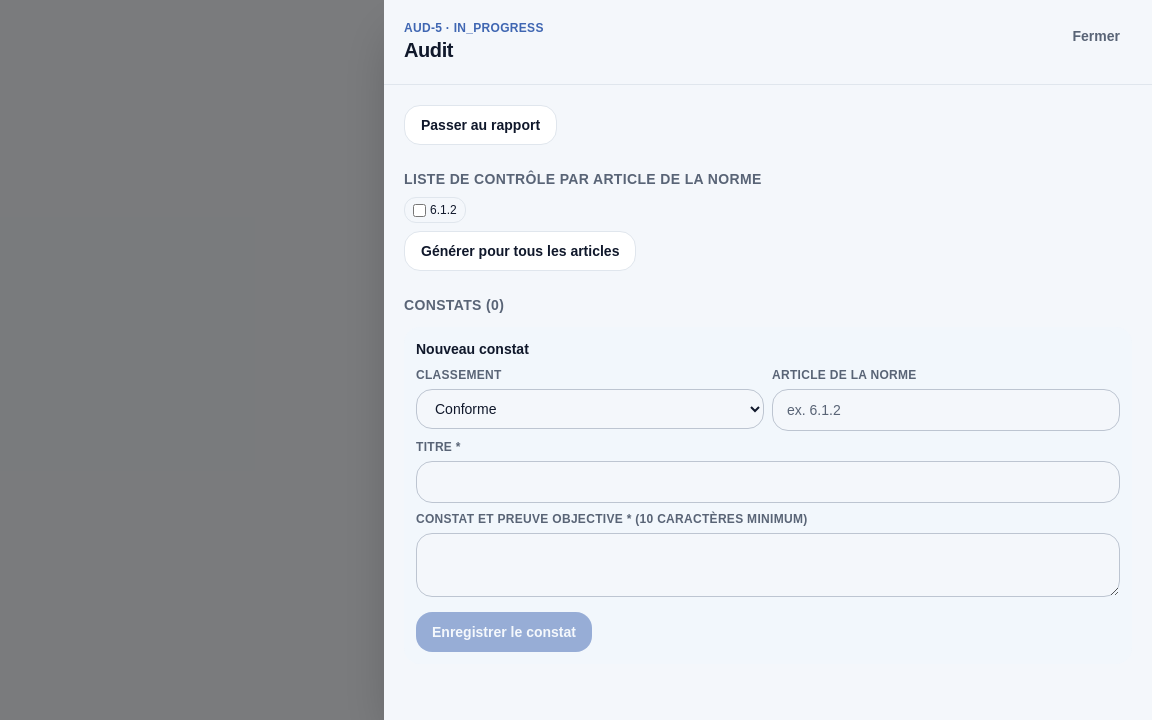
Test: conduite de l'audit › n'exige une gravité que pour les non-conformités
This screenshot has width=1152, height=720.
Expected: the field labelled "Gravité" is not shown
Select "Non-conformité majeure" in the dropdown labelled "Classement": x=590, y=409 416,389 -> 764,429
(page scrolled)
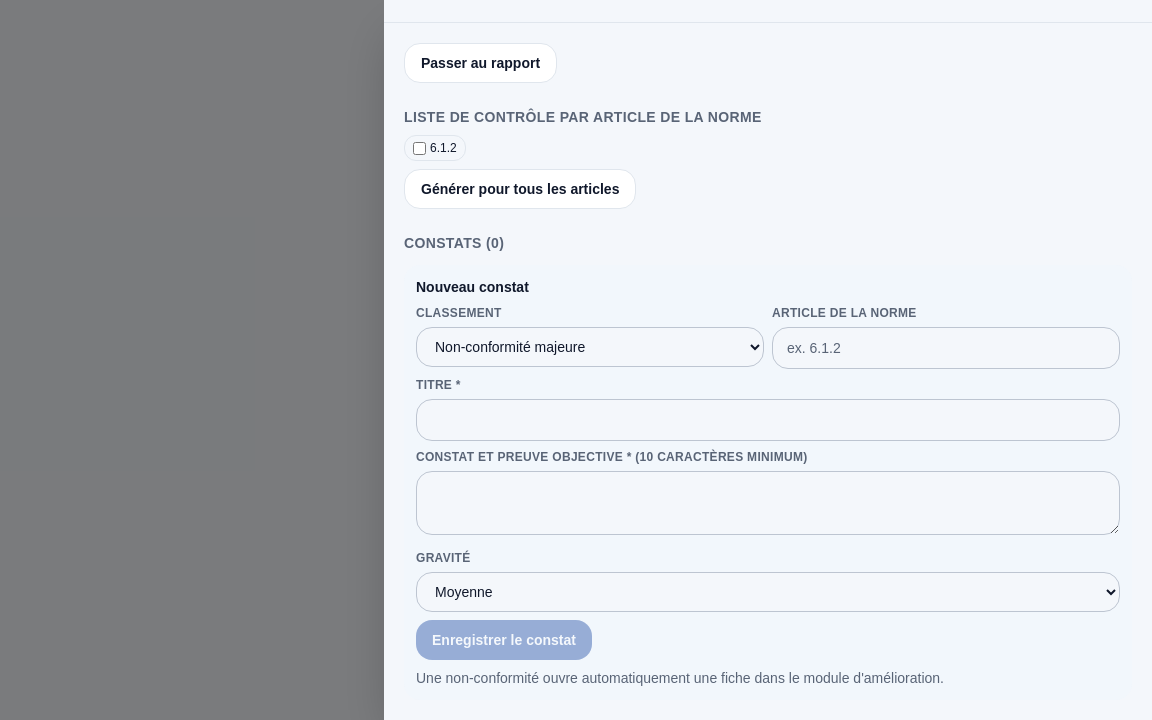
Expected: the dropdown labelled "Gravité" is shown, 416,572 -> 1120,612
Expected: the text "ouvre automatiquement une fiche" is shown, 416,670 -> 944,686
